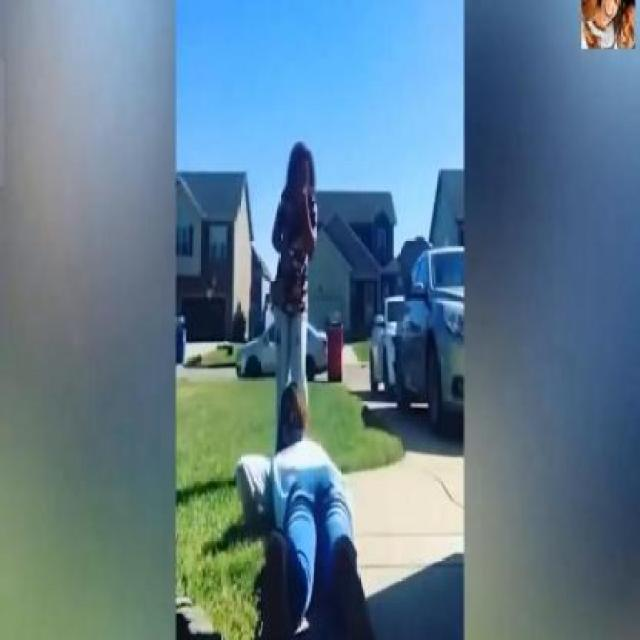fall: (240, 382, 372, 640)
